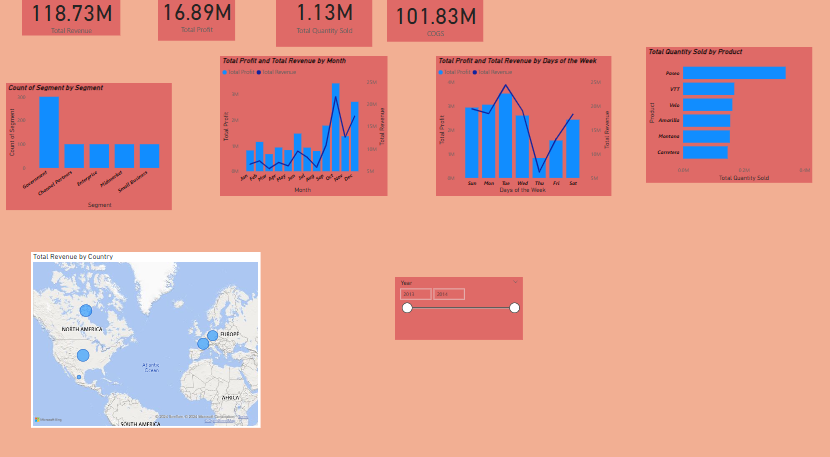

The dashboard page shown, as its layout file describes it:
{"tool":"powerbi","page":{"name":"Page 1","canvas":[2000,1200],"ordinal":0},"visuals":[{"type":"clusteredColumnChart","fields":{"Category":["financials.Segment"],"Y":["CountNonNull(financials.Segment)"]},"box":[19.2,295.2,398.4,304.8],"z":0},{"type":"card","fields":{"Values":["Mycalendar.Total Profit"]},"box":[384.6,65.7,185,129],"z":1000},{"type":"card","fields":{"Values":["Mycalendar.Total Revenue"]},"box":[58.4,80.3,236.1,102.2],"z":2000},{"type":"card","fields":{"Values":["Mycalendar.COGS"]},"box":[934.7,80.3,231.2,116.8],"z":3000},{"type":"card","fields":{"Values":["Mycalendar.Total Quantity Sold"]},"box":[666.9,51.1,231.2,158.2],"z":4000},{"type":"lineClusteredColumnComboChart","fields":{"Category":["Mycalendar.Month"],"Y":["Mycalendar.Total Profit"],"Y2":["Mycalendar.Total Revenue"]},"box":[533.1,231.2,401.6,335.9],"z":5000},{"type":"lineClusteredColumnComboChart","fields":{"Y":["Mycalendar.Total Profit"],"Y2":["Mycalendar.Total Revenue"],"Category":["Mycalendar.Days of the Week"]},"box":[1051.5,231.2,421.1,335.9],"z":6000},{"type":"barChart","fields":{"Category":["financials.Product"],"Y":["Mycalendar.Total Quantity Sold"]},"box":[1555.4,209.3,399.2,326.2],"z":7000},{"type":"map","fields":{"Category":["financials.Country"],"Size":["Mycalendar.Total Revenue"]},"box":[78,700,551.2,422],"z":8000},{"type":"slicer","fields":{"Values":["Mycalendar.Year"]},"box":[953.7,761,307.3,151.2],"z":9000}]}

Visuals, with their boxes on the page's 2000x1200 design canvas (x1, y1, x2, y2). These are canvas units, not pixel positions in the 830x457 screenshot, which may show the page scaled, cropped or inside an application window:
clusteredColumnChart - financials.Segment x CountNonNull(financials.Segment): [x1=19, y1=295, x2=418, y2=600]
card - Mycalendar.Total Profit: [x1=385, y1=66, x2=570, y2=195]
card - Mycalendar.Total Revenue: [x1=58, y1=80, x2=294, y2=182]
card - Mycalendar.COGS: [x1=935, y1=80, x2=1166, y2=197]
card - Mycalendar.Total Quantity Sold: [x1=667, y1=51, x2=898, y2=209]
lineClusteredColumnComboChart - Mycalendar.Month x Mycalendar.Total Profit: [x1=533, y1=231, x2=935, y2=567]
lineClusteredColumnComboChart - Mycalendar.Total Profit x Mycalendar.Total Revenue: [x1=1052, y1=231, x2=1473, y2=567]
barChart - financials.Product x Mycalendar.Total Quantity Sold: [x1=1555, y1=209, x2=1955, y2=536]
map - financials.Country x Mycalendar.Total Revenue: [x1=78, y1=700, x2=629, y2=1122]
slicer - Mycalendar.Year: [x1=954, y1=761, x2=1261, y2=912]
